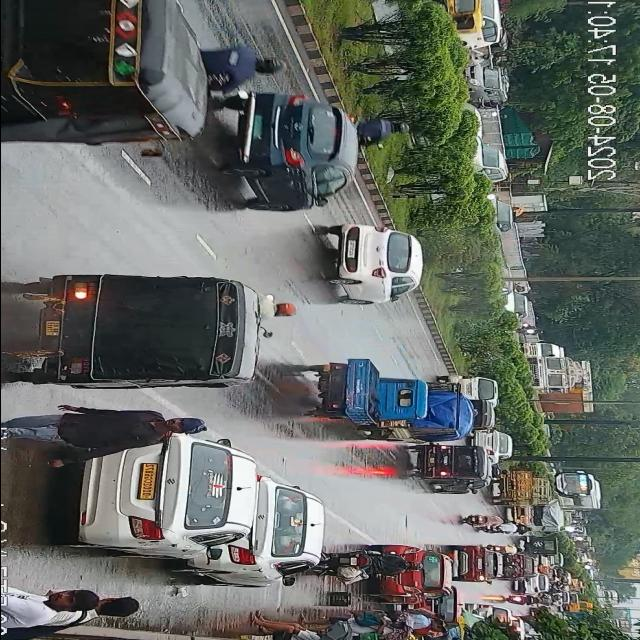2-wheelers: (215, 32, 290, 92), (329, 547, 421, 579), (359, 120, 412, 146), (263, 292, 303, 326), (460, 512, 508, 534)
auto: (22, 270, 264, 390), (222, 90, 352, 218), (315, 356, 431, 427), (378, 388, 468, 451), (418, 444, 484, 479), (439, 0, 483, 34), (512, 502, 562, 530), (461, 400, 499, 430)
bus: (0, 0, 215, 150)
car: (75, 429, 251, 562), (211, 482, 325, 582), (324, 220, 426, 308), (374, 538, 450, 598), (0, 580, 96, 626), (454, 0, 506, 50), (466, 64, 510, 108), (453, 547, 505, 582), (90, 592, 144, 622), (474, 428, 514, 466), (441, 374, 499, 400), (464, 599, 516, 624)
pedestrian: (0, 408, 215, 453), (243, 616, 325, 640), (326, 618, 413, 638), (402, 610, 454, 636)
truck: (528, 358, 600, 416)
